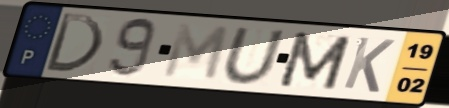9: (104, 17, 158, 81)
D: (42, 11, 106, 76)
K: (340, 34, 398, 95)
M: (275, 29, 355, 92), (160, 21, 233, 83)
U: (220, 26, 288, 87)
